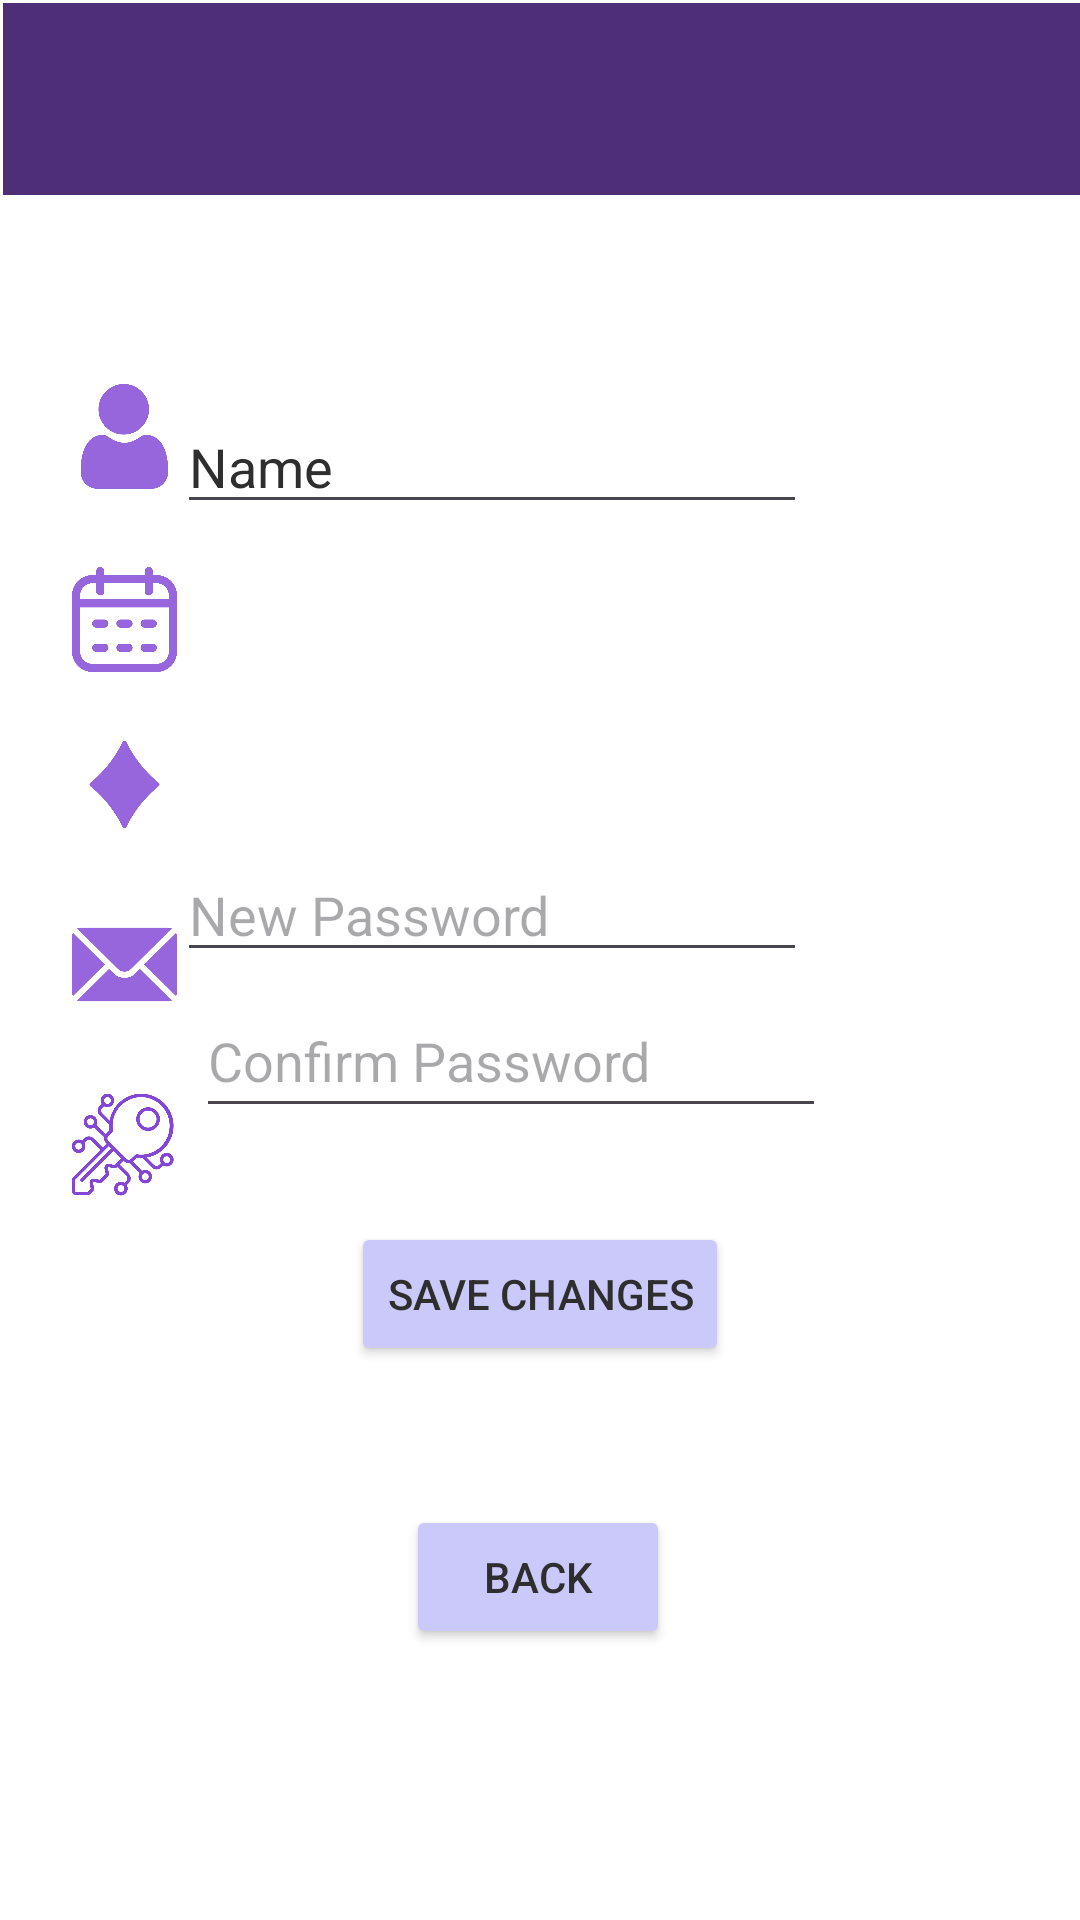

Locate icon controls on the screen. Image size 1080px×1920px, boxes as (x1, y1, x2, y2).
calendar: (72, 567, 177, 672)
diamond: (89, 741, 160, 828)
key: (72, 1094, 174, 1196)
mail: (72, 928, 177, 1001)
user: (81, 384, 168, 489)
